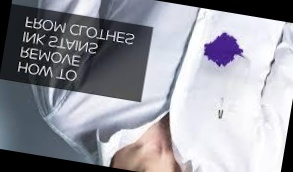ink: (204, 32, 242, 68)
